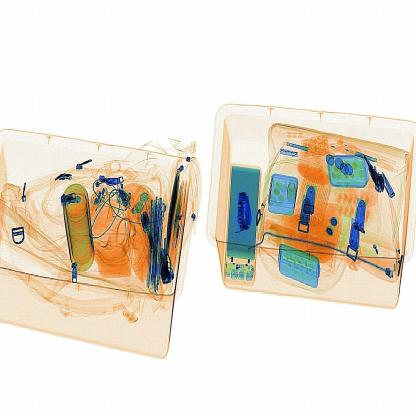scissors: (236, 188, 258, 239)
